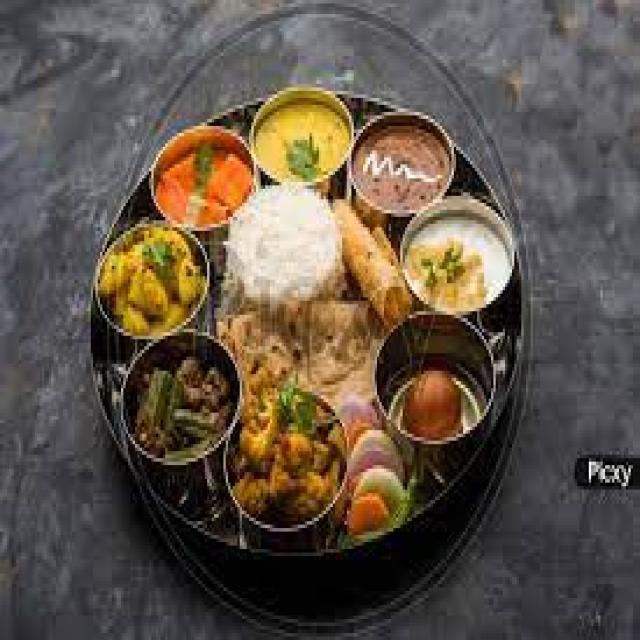dal: (91, 214, 211, 354), (251, 82, 357, 185)
raita: (401, 202, 520, 323)
rice: (228, 179, 343, 312)
roti: (222, 228, 388, 430)
sweet: (382, 315, 497, 472)
veg-fry: (115, 330, 238, 500), (146, 106, 257, 238), (349, 114, 457, 219)
